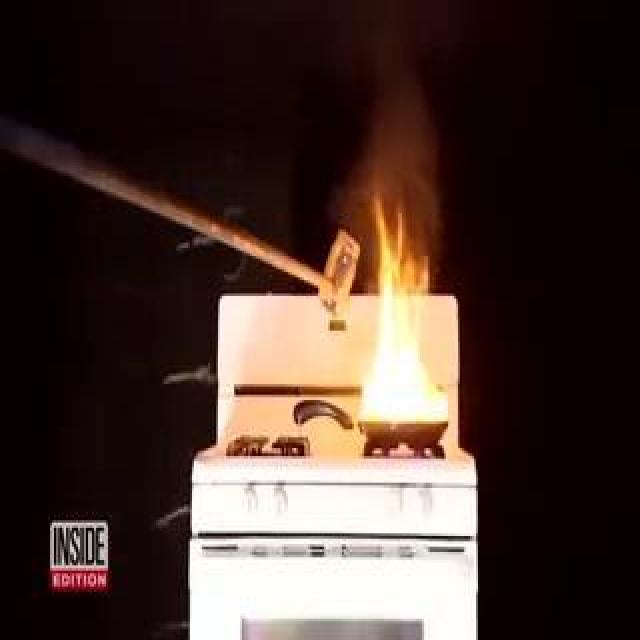Fire: (352, 208, 440, 437)
